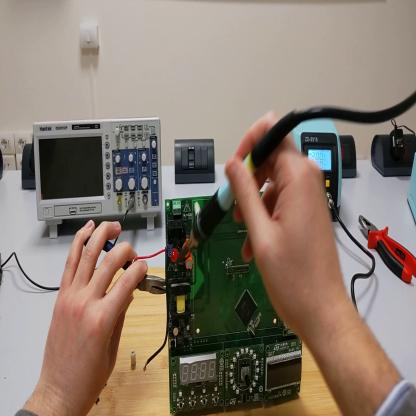hand: (223, 121, 344, 334), (42, 217, 148, 404)
low voltage board: (136, 191, 303, 416)
oscilloscope: (33, 118, 160, 239)
pliers: (85, 237, 168, 295), (361, 215, 416, 290)
socket: (372, 133, 416, 179), (341, 136, 357, 179), (24, 145, 35, 192), (2, 149, 3, 181)
welder base: (409, 156, 416, 229)
welder probe tip: (177, 116, 293, 275)
welder station: (294, 118, 342, 221)
working area: (87, 269, 343, 415)
